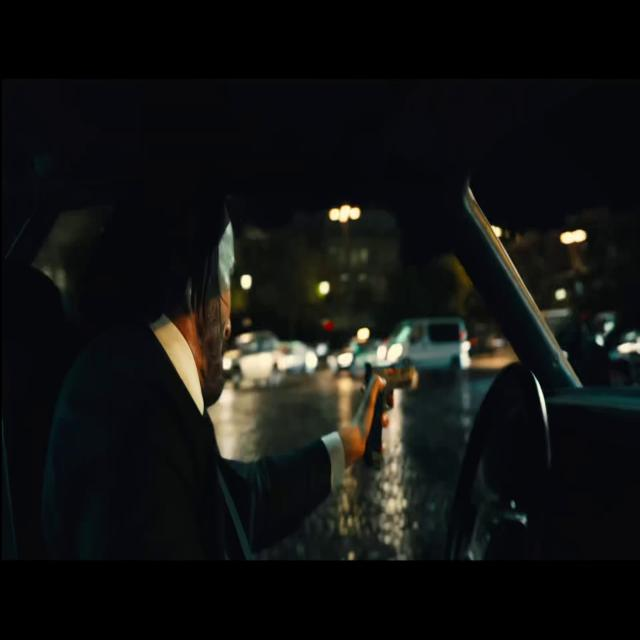weapons: (348, 329, 422, 474)
